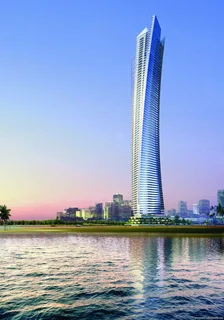high_rise_building: (125, 15, 168, 217)
